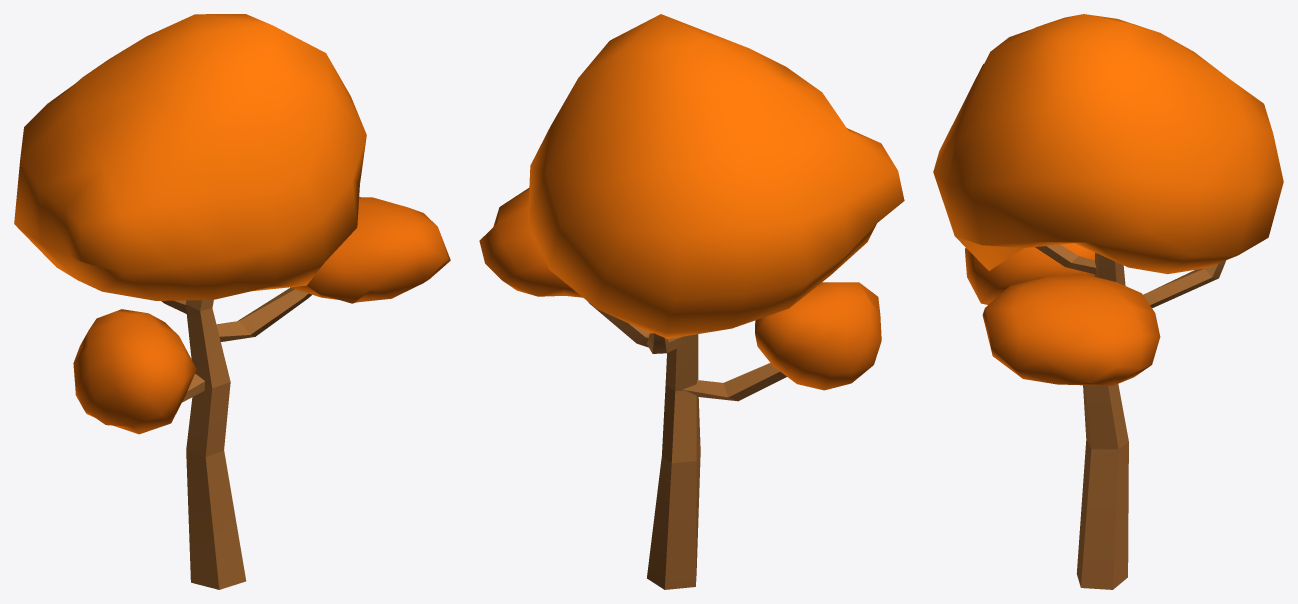
The model's file is Tree_19_Fall.fbx.
The picture shows the model from 3 angles, left to right: view 1: azimuth 30°, elevation 25°; view 2: azimuth 150°, elevation 25°; view 3: azimuth 270°, elevation 25°; orthographic projection. The views are drawn at different scales.
Visible parts, largest first — view 1: Tree_19_p2_Fall, Tree_19_p1_Fall; view 2: Tree_19_p2_Fall, Tree_19_p1_Fall; view 3: Tree_19_p2_Fall, Tree_19_p1_Fall.
Part boxes in pixels (left/top/right/bottom): Tree_19_p2_Fall: left=14, top=14, right=450, bottom=434; Tree_19_p1_Fall: left=161, top=287, right=311, bottom=589; Tree_19_p2_Fall: left=479, top=14, right=904, bottom=390; Tree_19_p1_Fall: left=588, top=302, right=786, bottom=589; Tree_19_p2_Fall: left=933, top=14, right=1283, bottom=385; Tree_19_p1_Fall: left=1035, top=244, right=1225, bottom=589.
Size of the model in its own units: 332 by 461 by 264.
